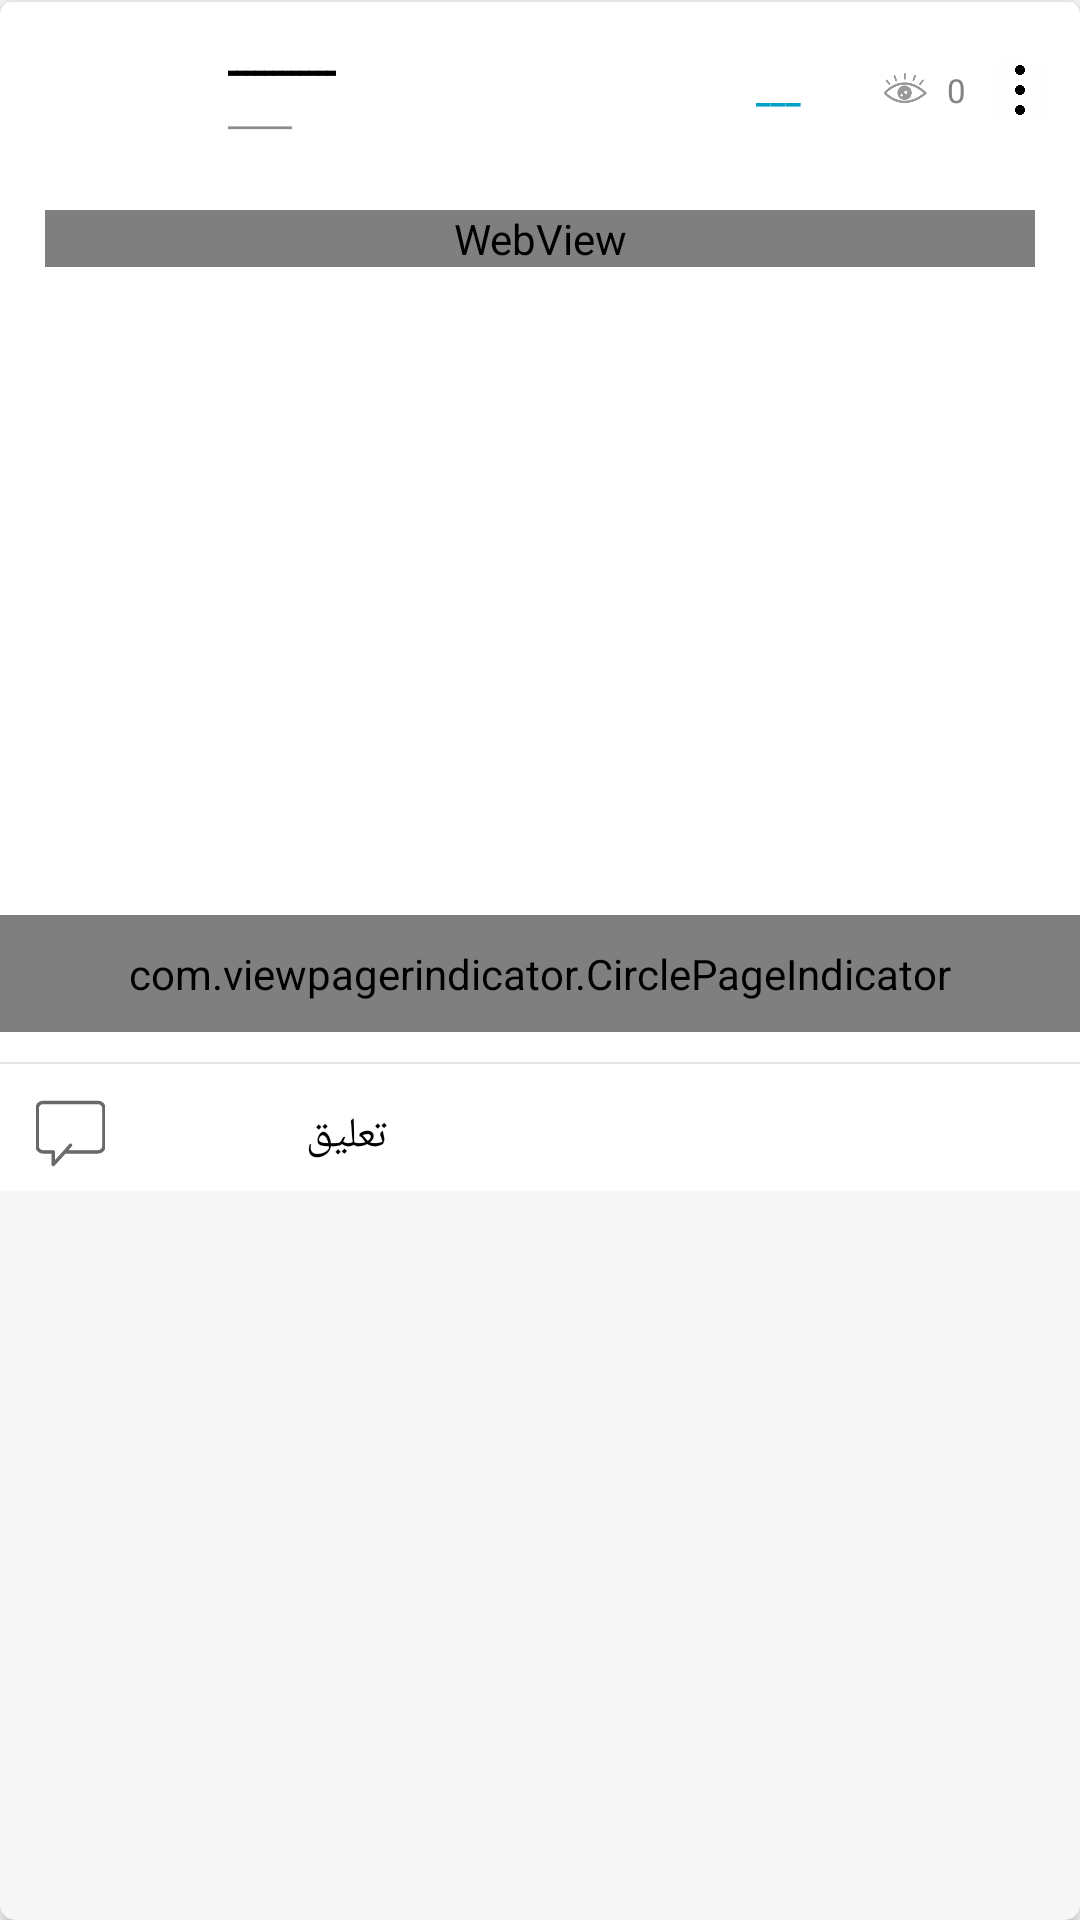

Icons on this 1080w x 1920h Android screen, each with the point to tap as point (x, y):
comment: point (70, 1133)
eye: point (905, 88)
more: point (1020, 90)
